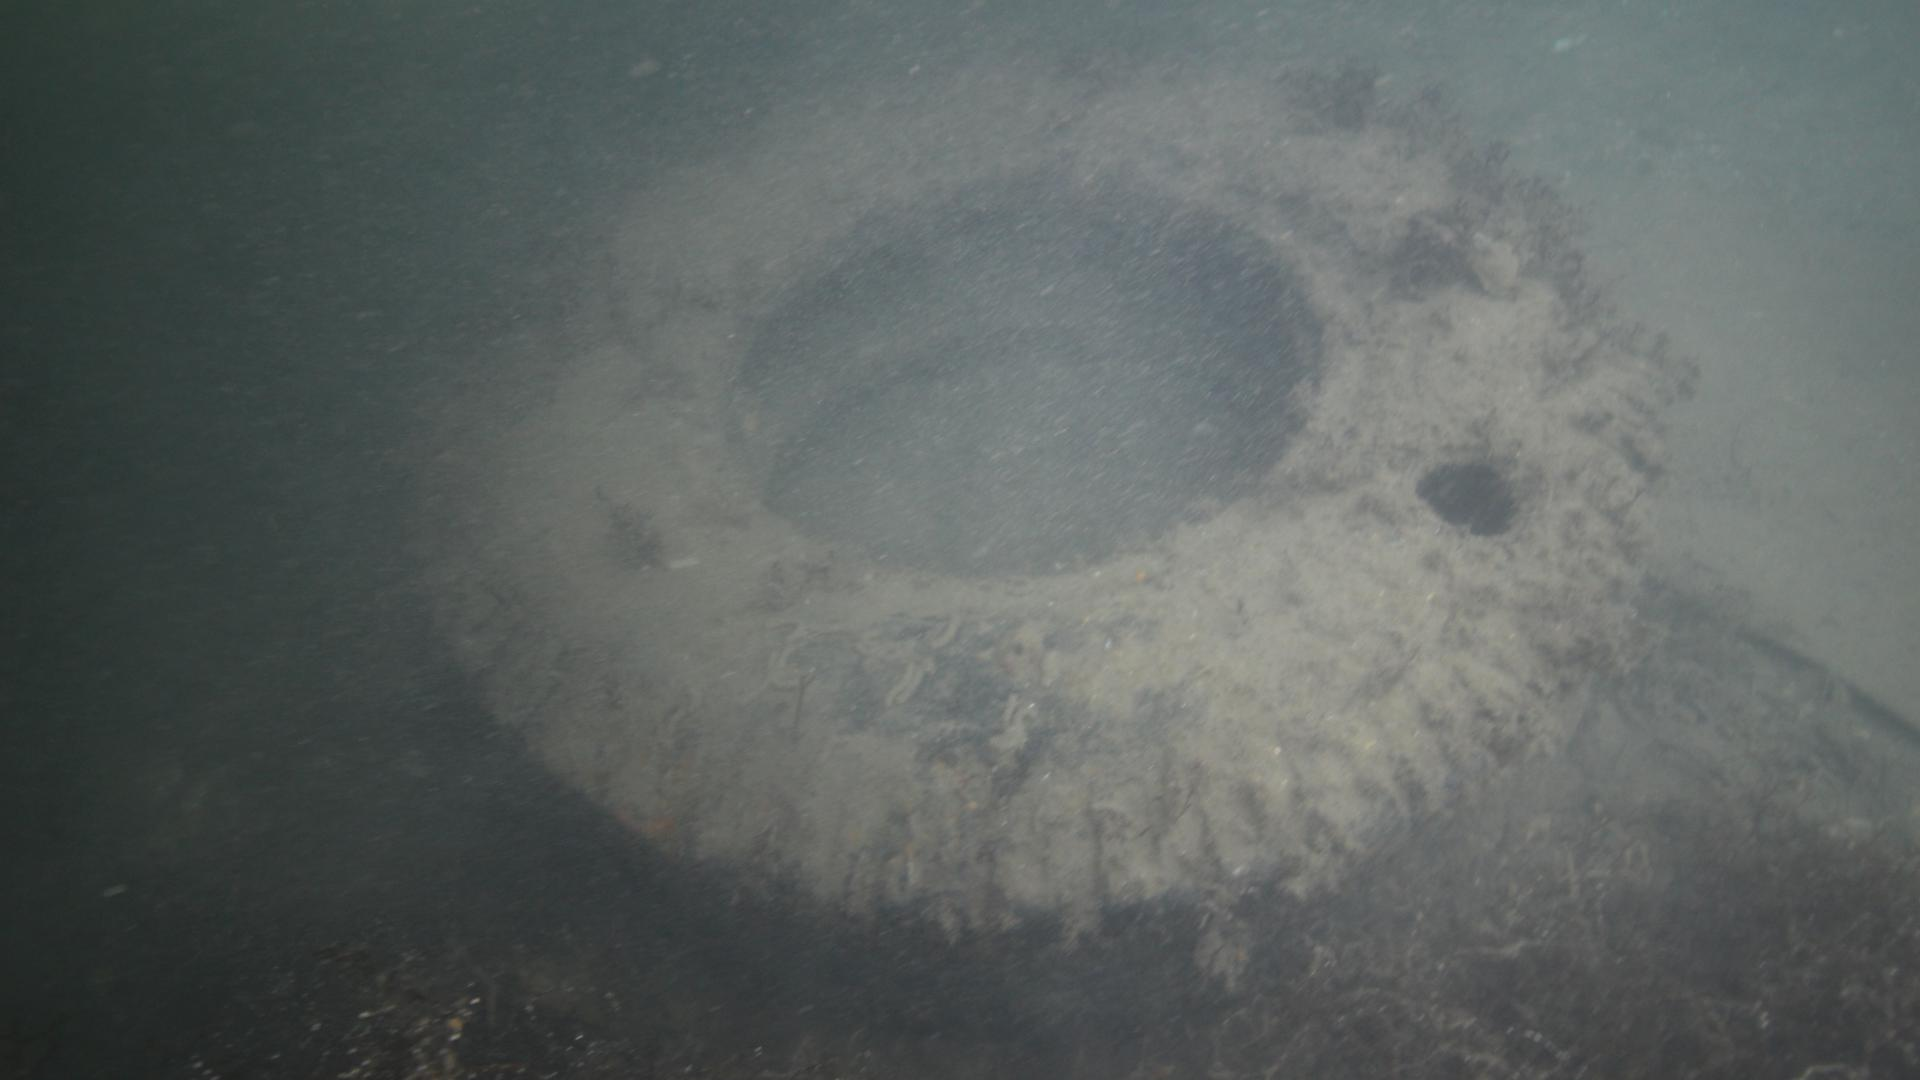tire: (411, 51, 1667, 960)
